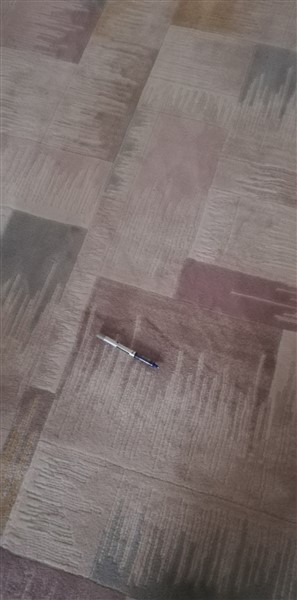pilot kalem: (91, 330, 163, 376)
